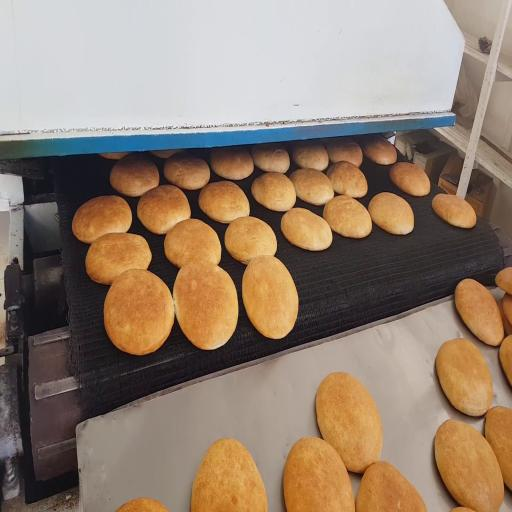bread: (316, 373, 382, 473), (435, 420, 504, 511), (104, 269, 174, 355), (174, 262, 238, 349), (191, 439, 267, 511), (283, 437, 354, 511), (242, 256, 298, 338), (436, 339, 493, 416), (356, 462, 426, 511), (86, 233, 151, 284), (455, 279, 504, 346), (72, 196, 132, 243), (164, 219, 221, 268), (137, 185, 190, 234), (225, 217, 277, 264), (281, 208, 332, 250), (485, 407, 511, 489), (199, 181, 249, 223), (323, 196, 371, 238), (110, 155, 159, 196), (368, 192, 414, 234), (251, 172, 296, 211), (164, 154, 210, 190), (290, 169, 334, 205), (432, 193, 476, 228), (327, 161, 367, 198), (211, 147, 253, 180), (390, 163, 430, 196), (251, 144, 290, 173), (291, 141, 328, 171), (325, 139, 362, 167), (363, 137, 397, 165), (116, 498, 168, 511), (499, 336, 511, 385), (498, 298, 511, 336), (495, 267, 512, 294), (151, 149, 184, 159), (502, 293, 511, 323), (100, 152, 128, 159), (451, 507, 471, 511)
